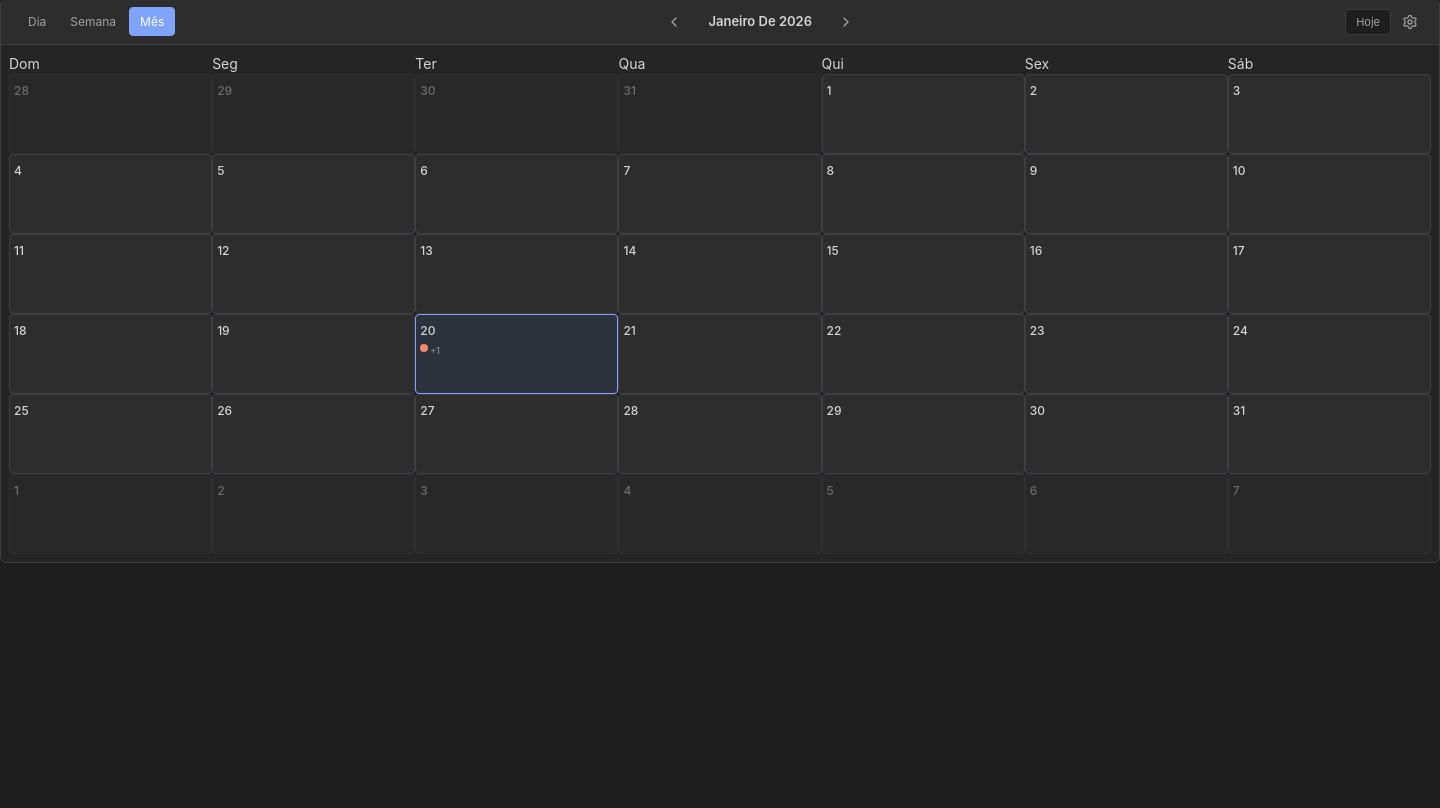
Test: Indicadores visuais de atraso › CalendarContainer exibe indicadores equivalentes no painel diário
Click the button with class "tab-btn" showing "Dia" at (37, 22), box x1=17 y1=7 x2=57 y2=36
(page scrolled)
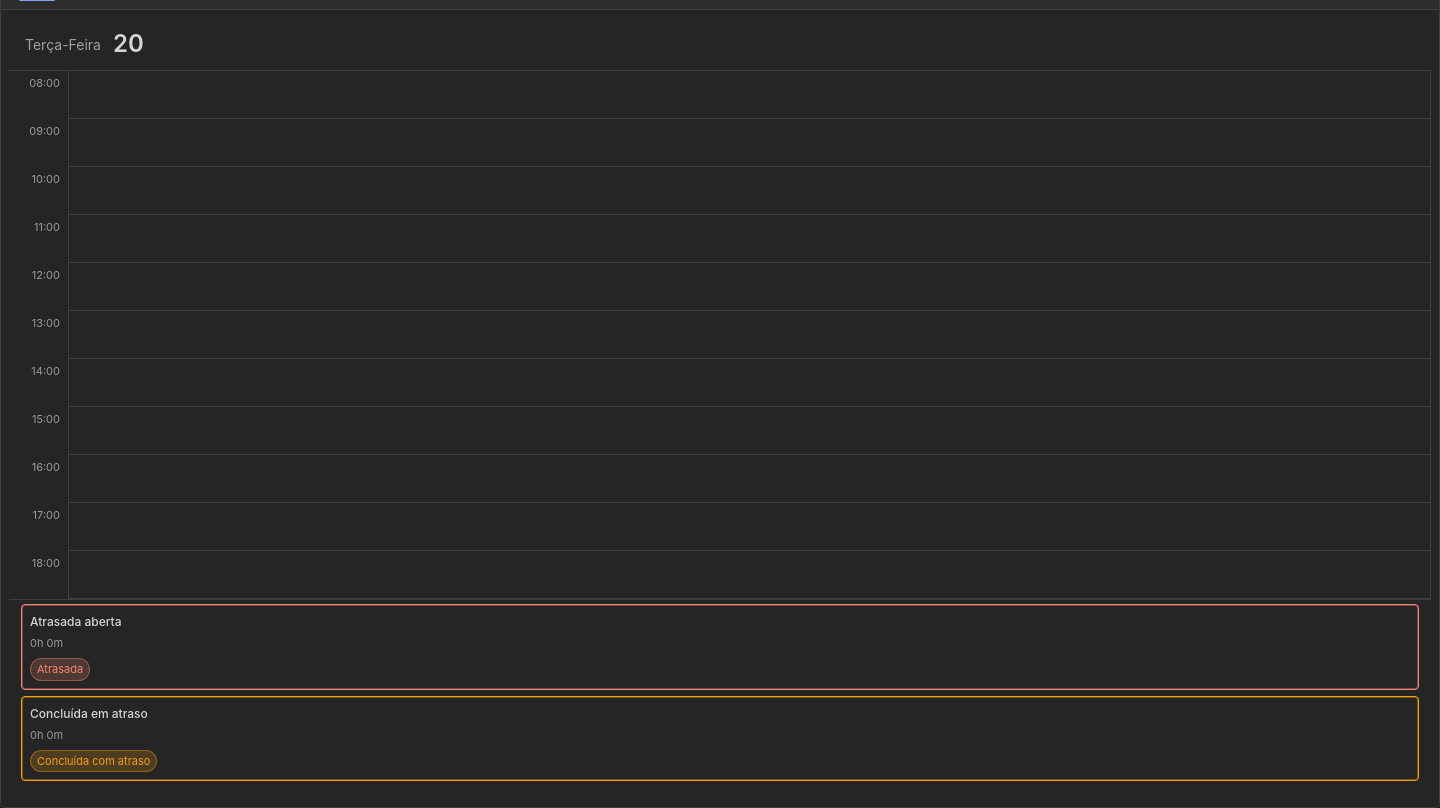
Expected: the text "Atrasada" is shown, x1=30 y1=614 x2=122 y2=629
Expected: the text "Concluída com atraso" is shown, x1=30 y1=750 x2=157 y2=772
